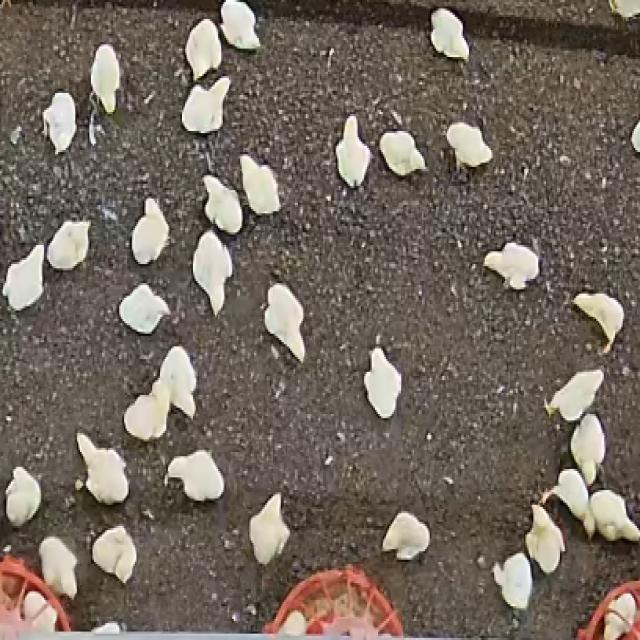broiler: (540, 469, 595, 537), (77, 433, 127, 503), (191, 230, 231, 313), (573, 291, 623, 353), (264, 283, 303, 361), (544, 370, 602, 420), (249, 492, 289, 564), (180, 76, 229, 133), (166, 450, 223, 498), (158, 346, 196, 416), (124, 380, 168, 439), (364, 346, 400, 418), (525, 505, 563, 572), (483, 243, 538, 289), (119, 283, 168, 334), (3, 245, 42, 308), (569, 414, 604, 484), (588, 490, 638, 539), (336, 114, 370, 186), (93, 526, 136, 581), (132, 199, 168, 264), (381, 511, 428, 560), (39, 537, 75, 598), (493, 553, 532, 608), (185, 19, 220, 80), (242, 154, 278, 213), (5, 467, 41, 526), (45, 220, 89, 268), (205, 175, 242, 232), (445, 123, 491, 167), (42, 93, 75, 152), (380, 131, 424, 175), (91, 44, 119, 112), (430, 8, 467, 59), (601, 591, 638, 638), (224, 0, 257, 49), (22, 591, 55, 627)
rice: (262, 566, 402, 634), (0, 556, 69, 638), (576, 579, 638, 638)
